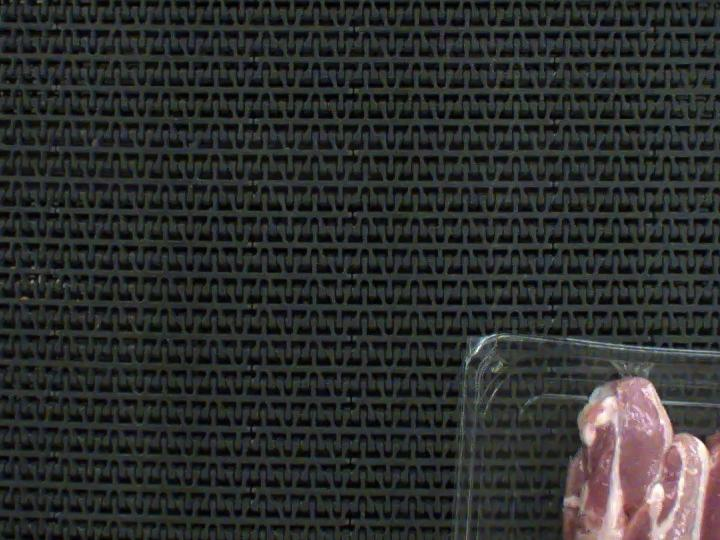packaging-error: (567, 323, 685, 420)
